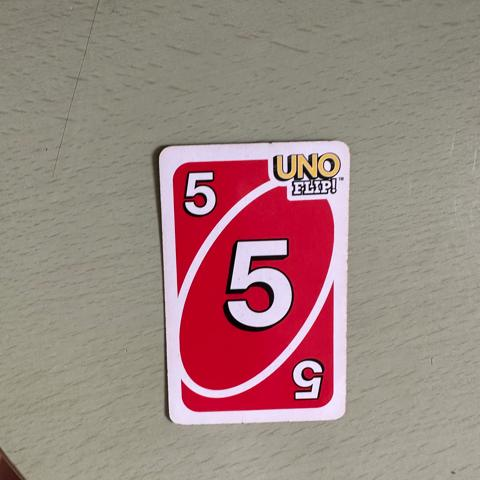lred-5: (168, 154, 228, 230)
